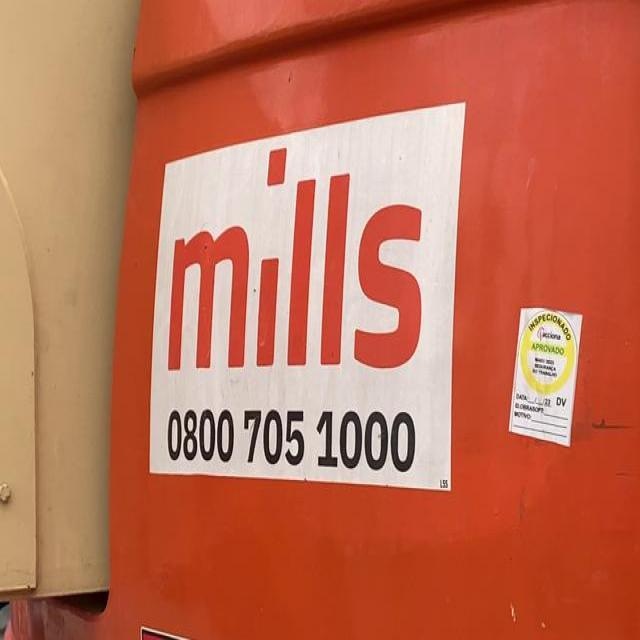Adesivos: (139, 76, 483, 507)
